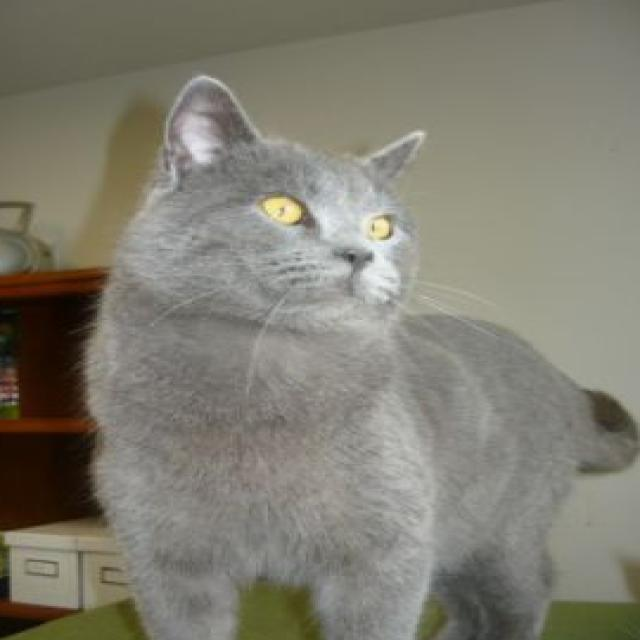British Shorthair: (76, 69, 640, 640)
